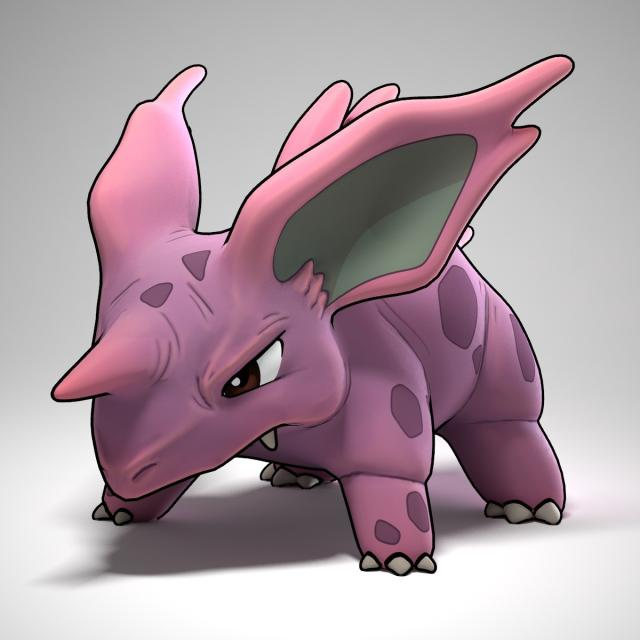Nidorino: (51, 46, 592, 555)
